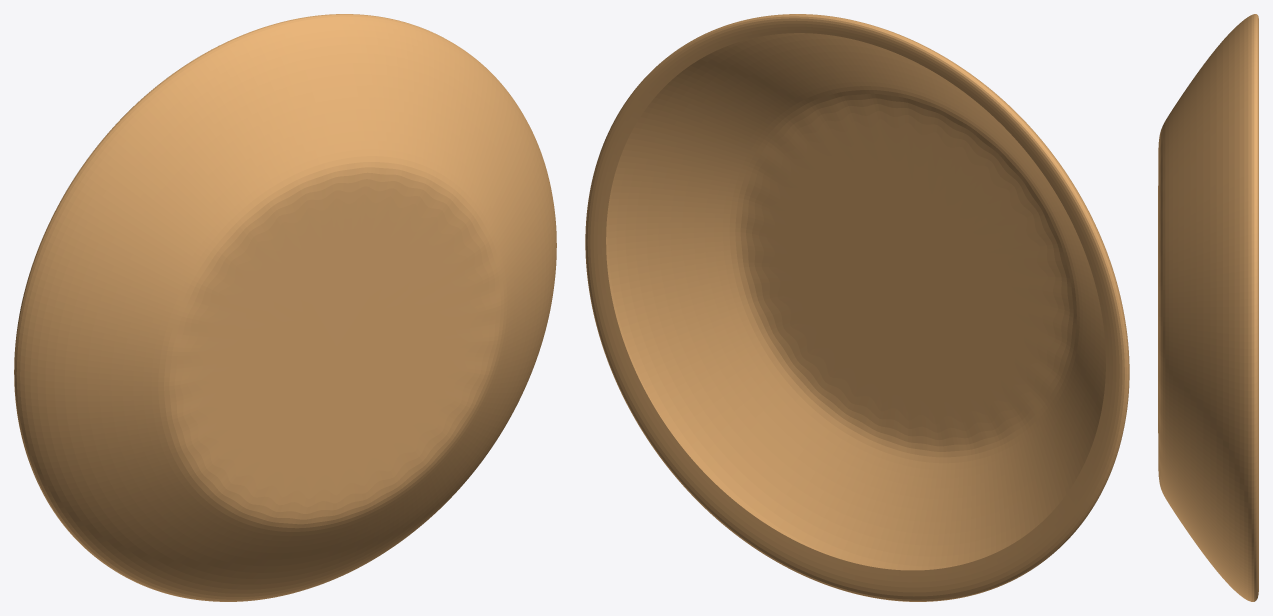
Rendered from Bowl_6.fbx.
3 renders of one model, left to right at view 1: azimuth 30°, elevation 25°; view 2: azimuth 150°, elevation 25°; view 3: azimuth 270°, elevation 25°, orthographic. The views are drawn at different scales.
Visible parts, largest first — view 1: Bowl_2.001; view 2: Bowl_2.001; view 3: Bowl_2.001.
Boxes of the visible parts, x1,y1,x2,y2 form: Bowl_2.001: (14,14,556,601); Bowl_2.001: (585,14,1129,601); Bowl_2.001: (1158,14,1258,601).
Size of the model in its own units: 65.03 by 65.62 by 11.24.
